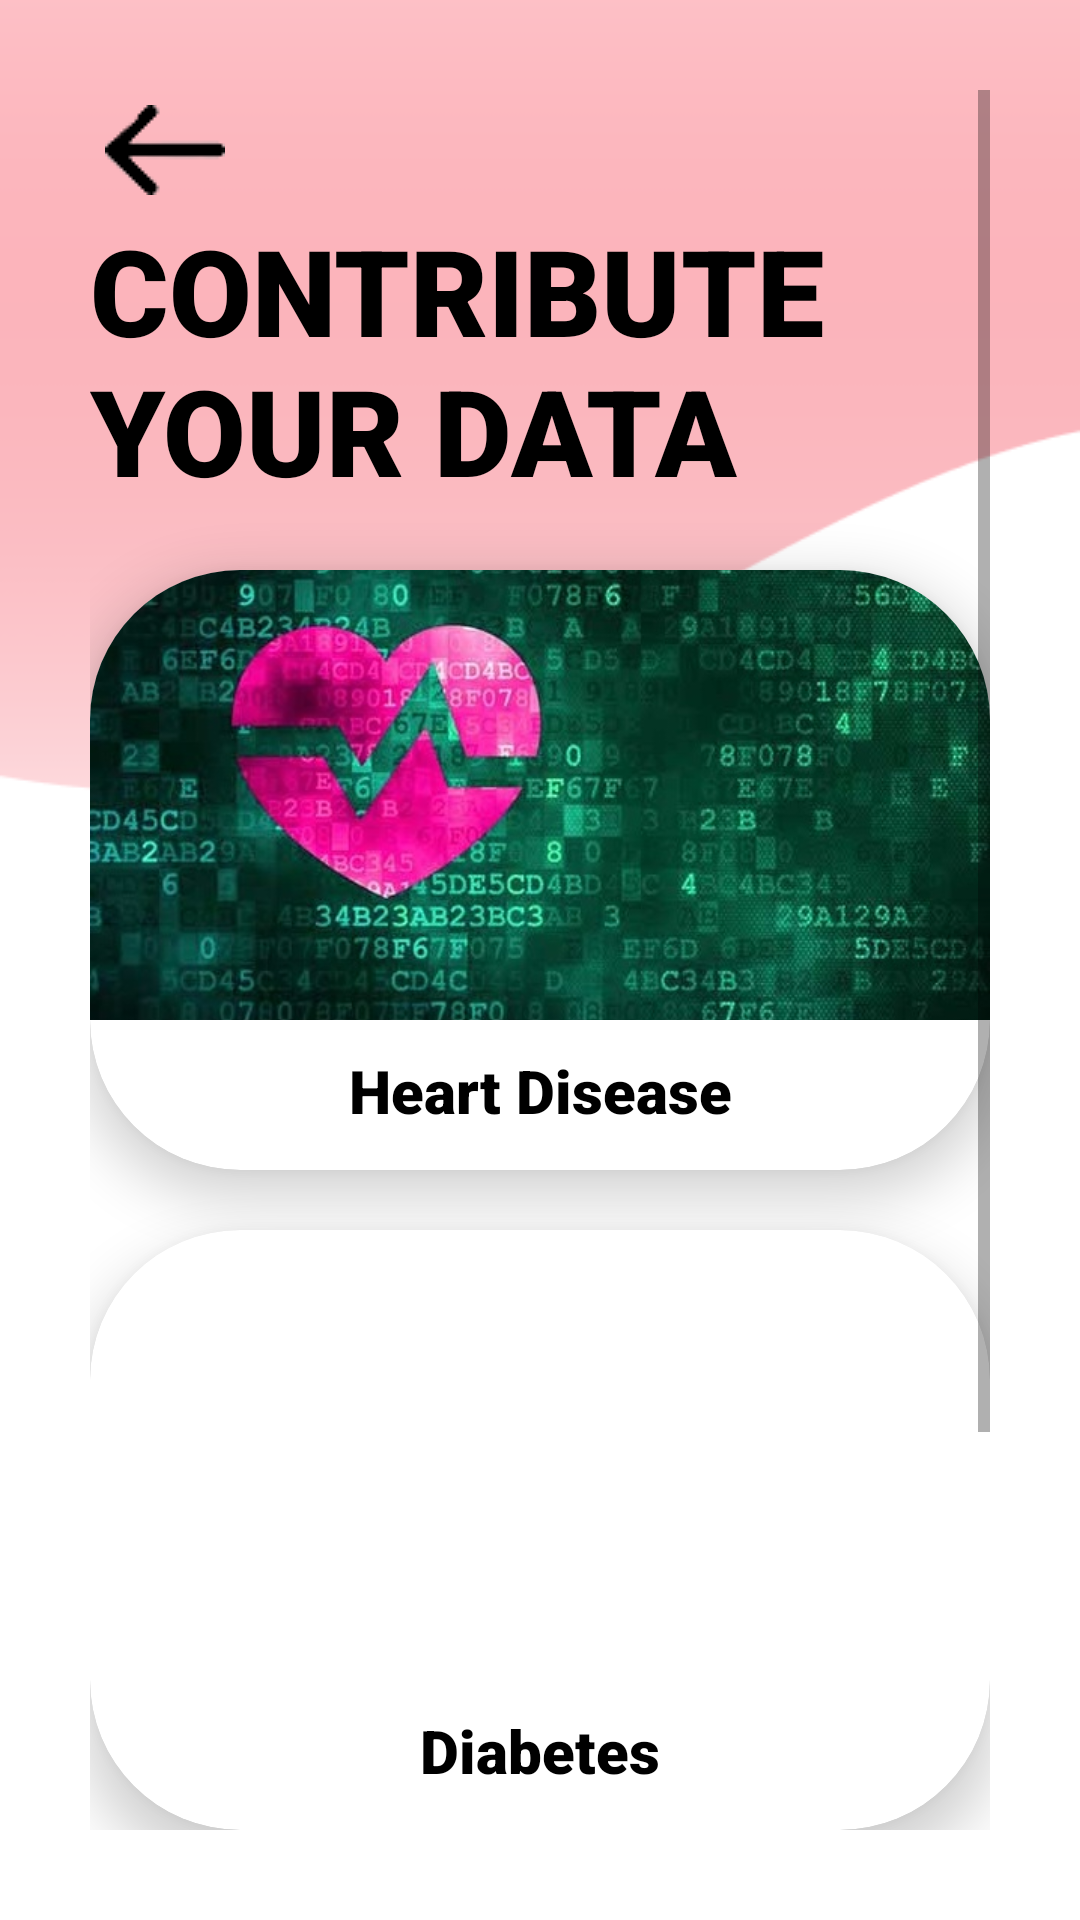

Screen size 1080×1920. Icon name, then its box in pixels as (x1, y1, x2, y2):
back: (105, 105, 225, 195)
